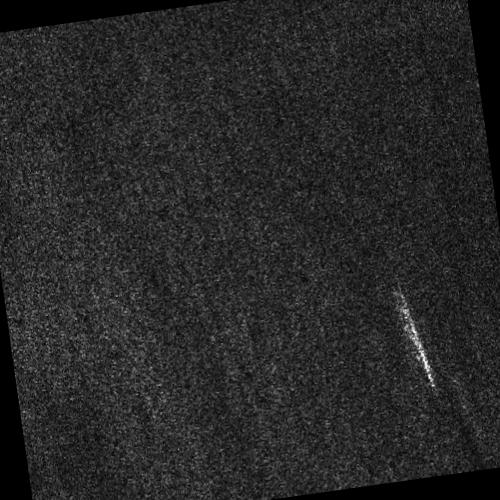ship: (403, 306, 436, 389)
